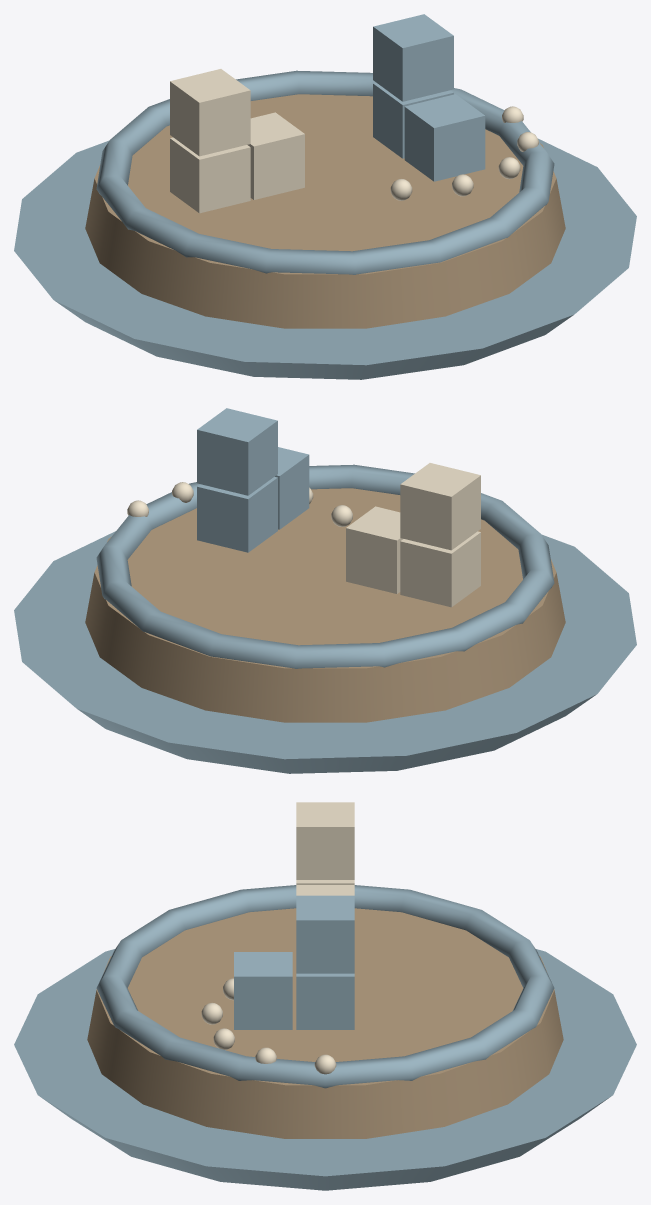
The model's file is party_mg34_spin_turntable.glb.
3 views of the same model, one above another, from view 1: azimuth 30°, elevation 25°; view 2: azimuth 150°, elevation 25°; view 3: azimuth 270°, elevation 25° (orthographic).
Visible parts, largest first — view 1: _MeshInstance3D_262, _MeshInstance3D_261, _MeshInstance3D_263, _MeshInstance3D_271, _MeshInstance3D_270, _MeshInstance3D_267, _MeshInstance3D_265, _MeshInstance3D_266, _MeshInstance3D_269; view 2: _MeshInstance3D_262, _MeshInstance3D_261, _MeshInstance3D_263, _MeshInstance3D_270, _MeshInstance3D_267, _MeshInstance3D_265, _MeshInstance3D_269, _MeshInstance3D_266, _MeshInstance3D_271; view 3: _MeshInstance3D_262, _MeshInstance3D_261, _MeshInstance3D_263, _MeshInstance3D_270, _MeshInstance3D_267, _MeshInstance3D_271, _MeshInstance3D_269, _MeshInstance3D_266.
Part boxes in pixels (<box>): _MeshInstance3D_262: <box>85,94,565,328</box>; _MeshInstance3D_261: <box>14,138,636,379</box>; _MeshInstance3D_263: <box>96,70,554,274</box>; _MeshInstance3D_271: <box>404,94,485,181</box>; _MeshInstance3D_270: <box>373,14,453,101</box>; _MeshInstance3D_267: <box>170,69,250,156</box>; _MeshInstance3D_265: <box>170,137,250,213</box>; _MeshInstance3D_266: <box>247,112,304,199</box>; _MeshInstance3D_269: <box>373,82,453,158</box>; _MeshInstance3D_262: <box>85,488,565,722</box>; _MeshInstance3D_261: <box>14,531,636,773</box>; _MeshInstance3D_263: <box>96,464,554,668</box>; _MeshInstance3D_270: <box>197,408,277,495</box>; _MeshInstance3D_267: <box>400,463,480,550</box>; _MeshInstance3D_265: <box>400,531,480,607</box>; _MeshInstance3D_269: <box>197,476,277,552</box>; _MeshInstance3D_266: <box>346,506,403,593</box>; _MeshInstance3D_271: <box>275,447,309,529</box>; _MeshInstance3D_262: <box>87,908,563,1138</box>; _MeshInstance3D_261: <box>14,949,636,1190</box>; _MeshInstance3D_263: <box>96,885,554,1088</box>; _MeshInstance3D_270: <box>296,895,354,973</box>; _MeshInstance3D_267: <box>296,802,354,879</box>; _MeshInstance3D_271: <box>234,952,292,1029</box>; _MeshInstance3D_269: <box>296,973,354,1029</box>; _MeshInstance3D_266: <box>296,885,354,895</box>.
Bounding box in the file's own units: 3.4 × 1.26 × 3.4.
